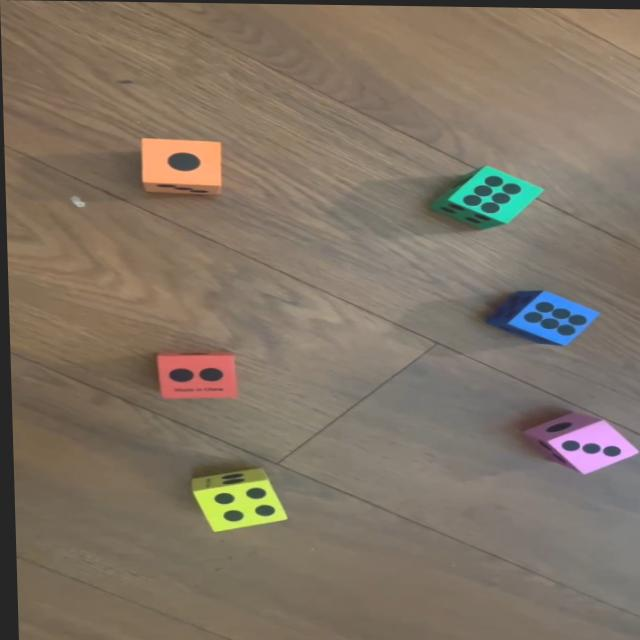blue_block: (483, 289, 594, 347)
red_block: (156, 350, 238, 401)
